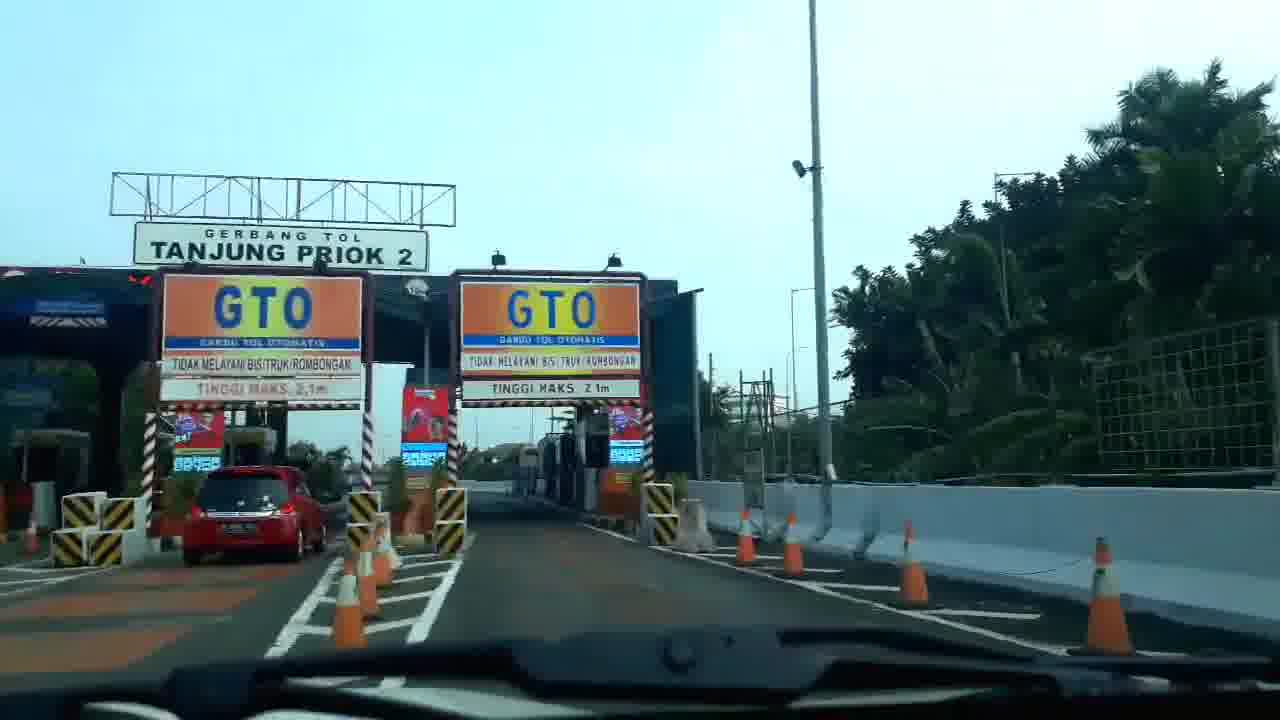plate_positive: (222, 522, 257, 536)
